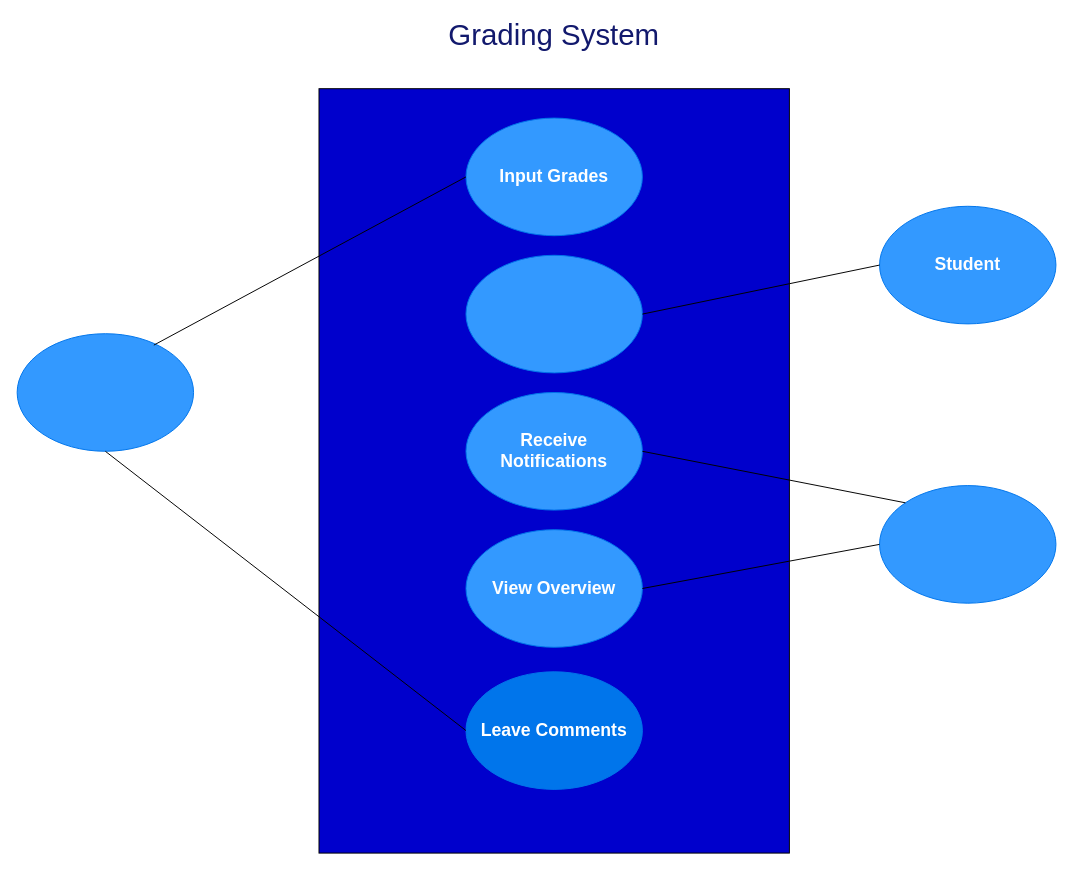
This 1073x870 diagram has some shape labels left out. The centre of each missing label's shape, as x and y in pixels:
Parent: (x=967, y=544)
Teacher: (x=105, y=392)
View Grades: (x=553, y=313)
